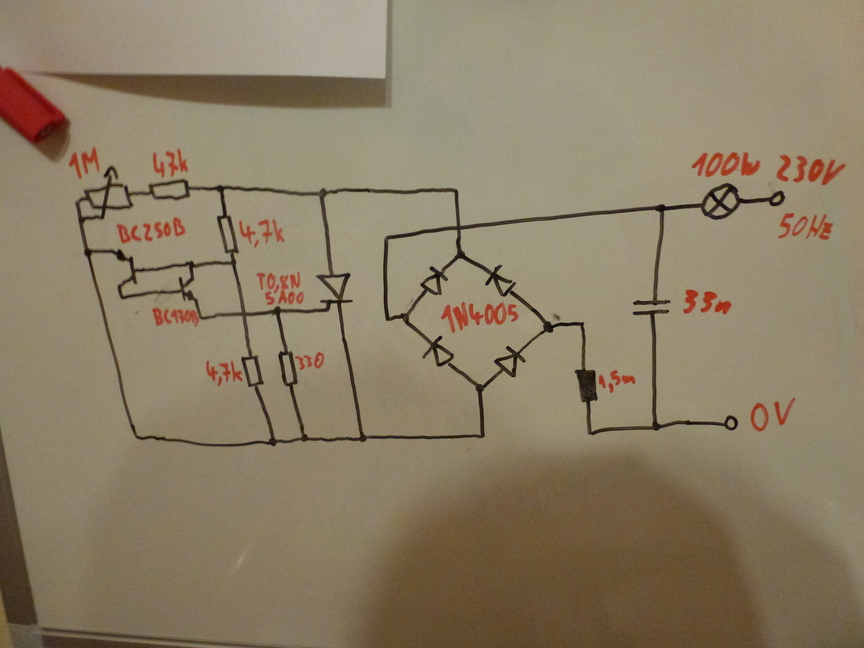capacitor.unpolarized: (628, 289, 674, 327)
crossover: (450, 220, 468, 236), (233, 307, 252, 322)
diode: (477, 262, 520, 300), (418, 334, 461, 372), (490, 343, 529, 381), (417, 263, 450, 297)
inductor: (571, 364, 601, 408)
junction: (652, 198, 673, 218), (261, 432, 283, 451), (537, 319, 559, 336), (645, 417, 665, 435), (128, 429, 149, 446), (353, 429, 372, 446), (294, 431, 314, 447), (224, 255, 242, 272), (313, 185, 331, 201), (397, 309, 415, 325), (268, 305, 287, 320), (78, 244, 95, 260), (470, 381, 489, 395), (212, 181, 229, 196), (574, 318, 592, 332), (379, 230, 395, 245), (581, 425, 598, 439), (449, 183, 464, 197), (454, 249, 468, 263), (184, 257, 199, 270), (474, 428, 488, 441), (382, 311, 394, 325), (72, 213, 86, 225), (117, 292, 130, 304), (70, 195, 82, 207), (196, 312, 207, 323)
lamp: (699, 181, 746, 223)
resistor: (141, 178, 198, 203), (273, 346, 301, 391), (213, 209, 240, 255), (239, 351, 266, 391)
resistor.adjustable: (84, 165, 134, 223)
terminal: (764, 188, 791, 210), (719, 411, 742, 436)
text: (439, 300, 522, 335), (772, 151, 846, 188), (687, 149, 762, 180), (253, 267, 308, 306), (114, 215, 185, 244), (775, 210, 835, 244), (747, 397, 801, 432), (236, 215, 288, 249), (679, 286, 733, 318), (149, 303, 201, 331), (148, 146, 191, 178), (201, 357, 245, 387), (66, 145, 103, 180), (597, 368, 638, 395), (294, 351, 327, 371)
thyristor: (311, 268, 362, 316)
transistor: (105, 246, 143, 289), (173, 272, 201, 302)
